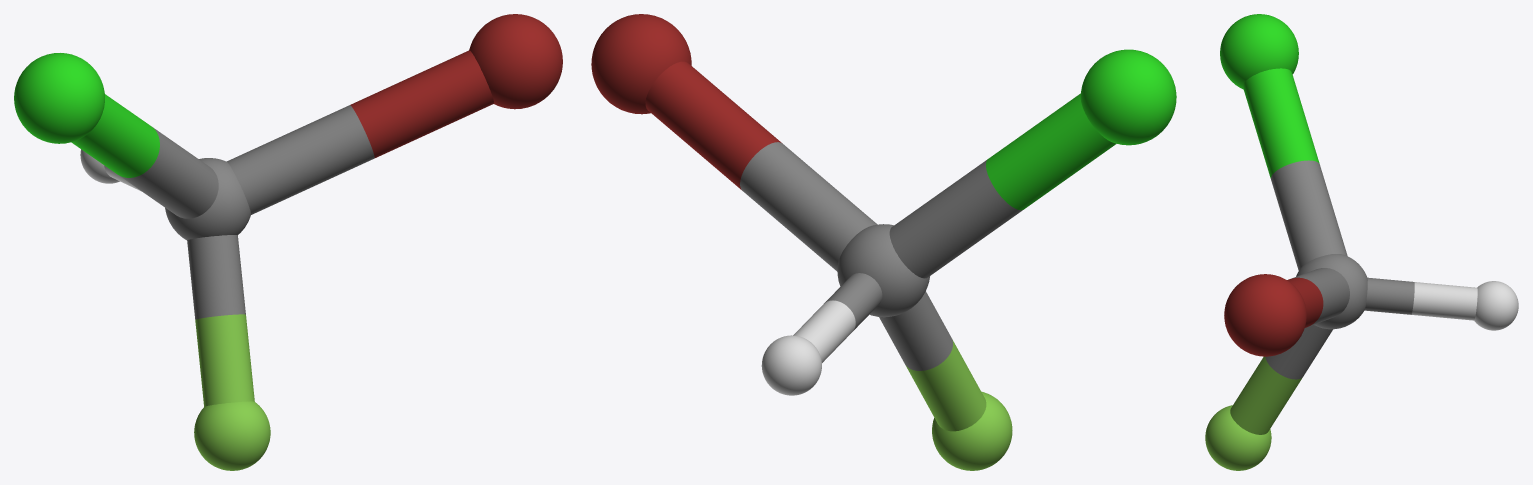
File: S-BROMOCHLOROFLUOROMETHANE.MOL2.glb
The picture shows the model from 3 angles, left to right: view 1: azimuth 30°, elevation 25°; view 2: azimuth 150°, elevation 25°; view 3: azimuth 270°, elevation 25°; orthographic projection. The views are drawn at different scales.
Size of the model in its own units: 3.59 by 2.8 by 2.08.
